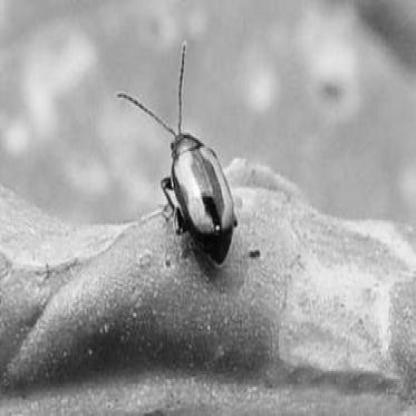beetle: (148, 79, 246, 273)
